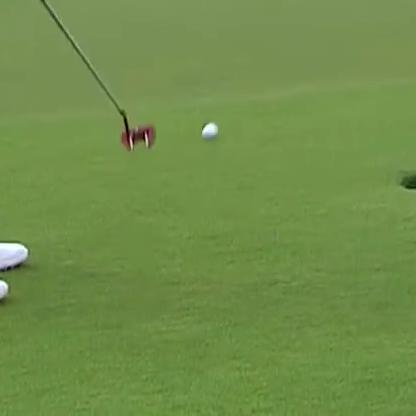golfball: (197, 121, 219, 140)
